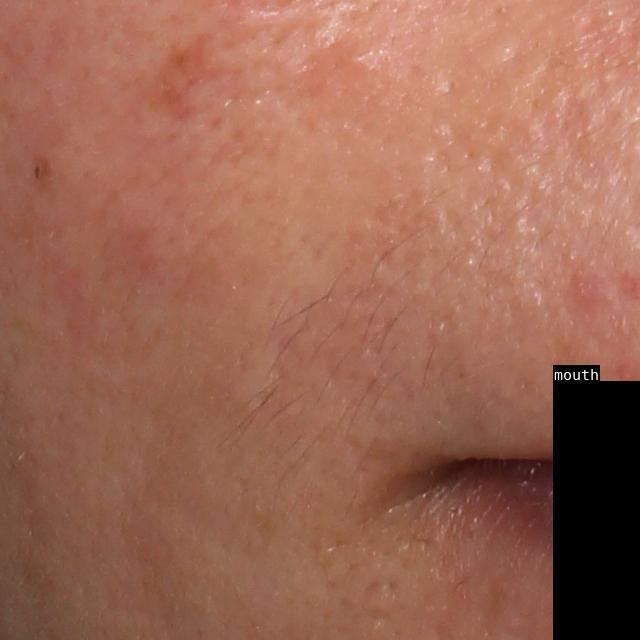atrophic_scar: (147, 26, 245, 126)
